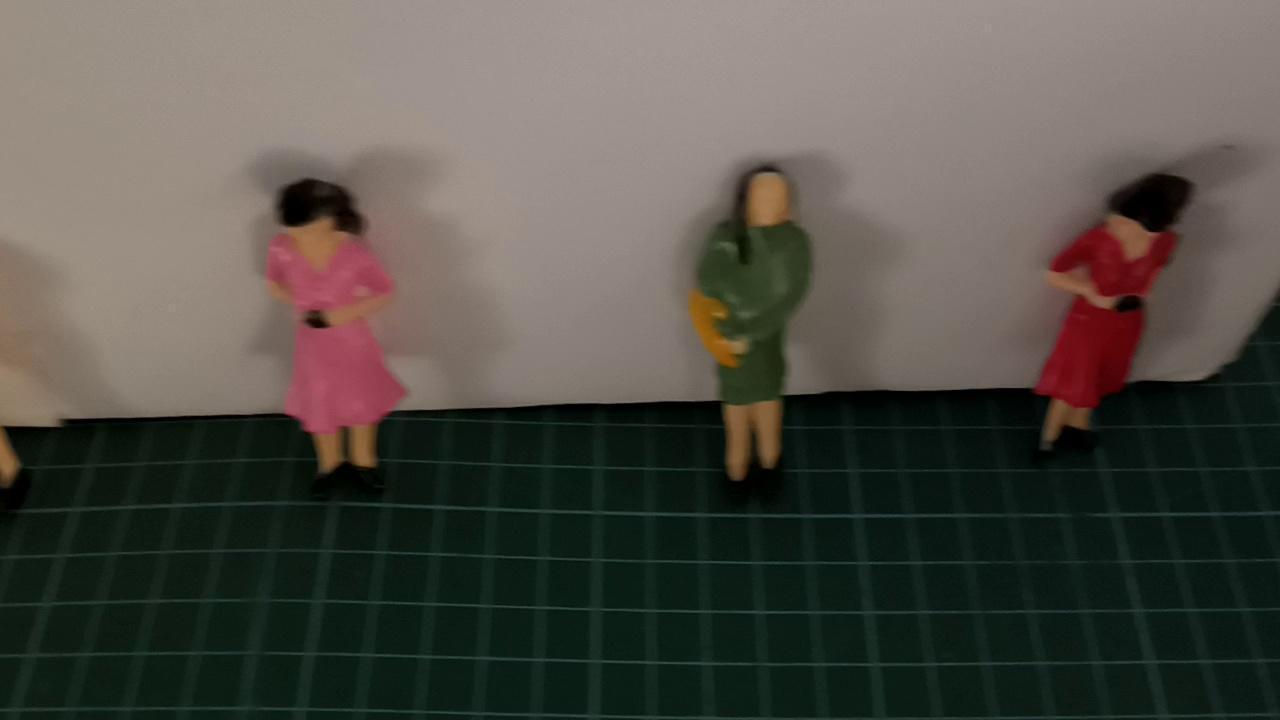human: (1030, 147, 1202, 481), (255, 175, 414, 503), (682, 155, 823, 503)
